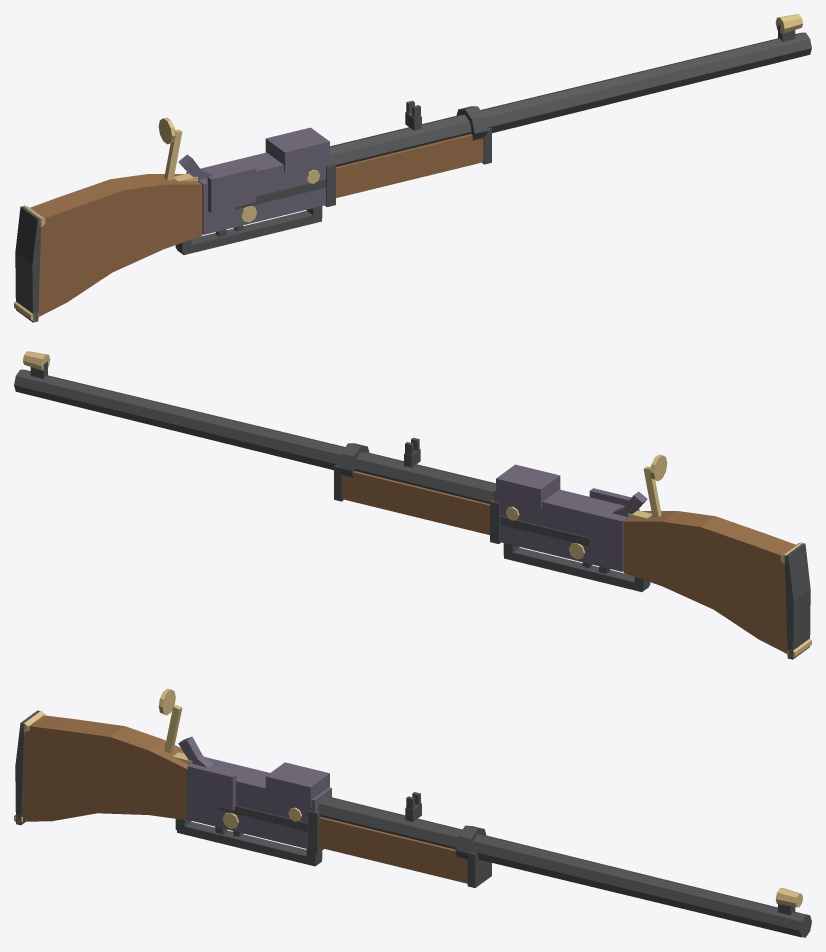
File: sharps_1874.glb
3 renders of one model, top to bottom at view 1: azimuth 30°, elevation 25°; view 2: azimuth 150°, elevation 25°; view 3: azimuth 330°, elevation 25°, orthographic.
Visible parts, largest first — view 1: Sharps1874_geo; view 2: Sharps1874_geo; view 3: Sharps1874_geo.
Part boxes in pixels (x1,y1,x2,y2): Sharps1874_geo: (14, 14, 811, 322); Sharps1874_geo: (14, 351, 811, 659); Sharps1874_geo: (14, 688, 811, 937).
Size of the model in its own units: 1.22 by 0.2411 by 0.058.
